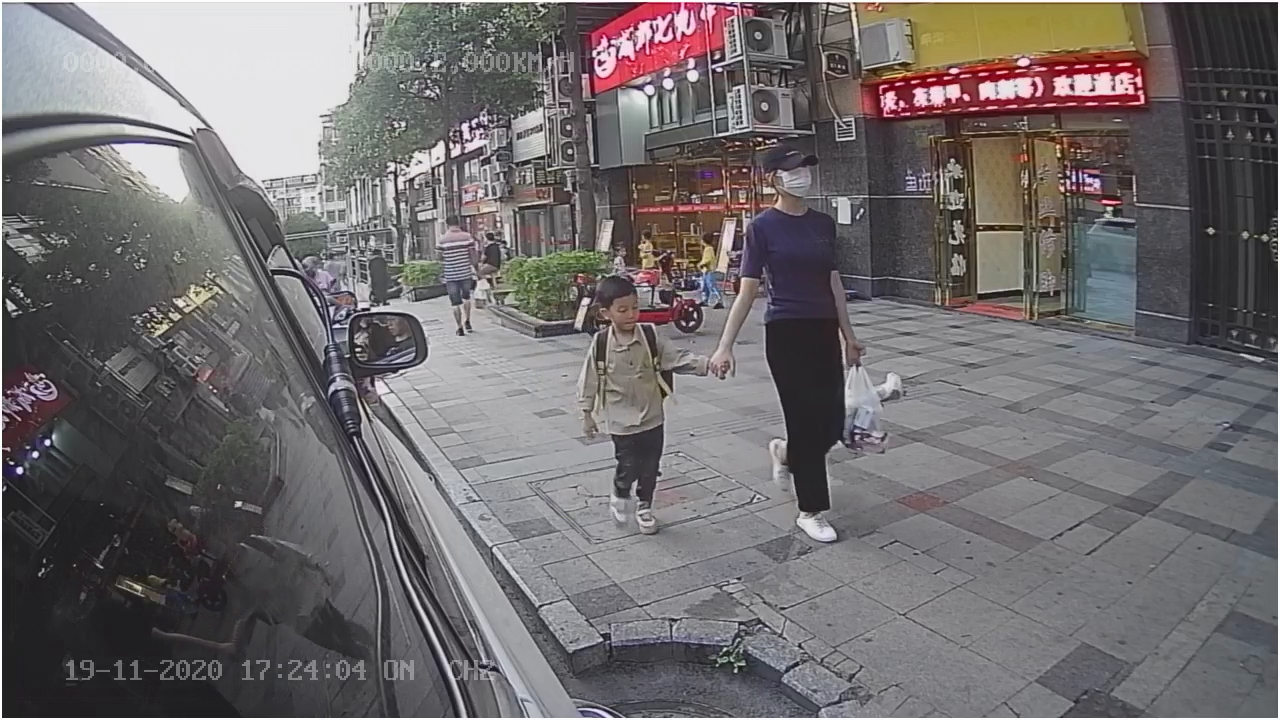person: (712, 146, 891, 546), (571, 275, 713, 534), (433, 209, 481, 341)
